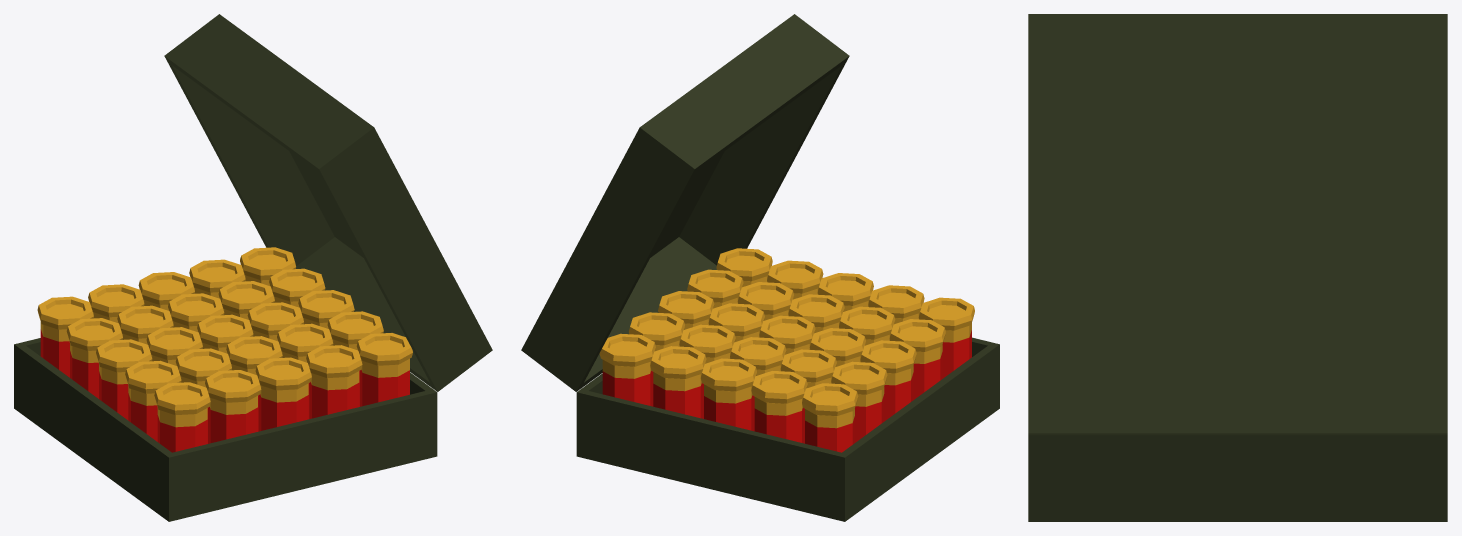
Rendered from Shotgun_Ammo.fbx.
The picture shows the model from 3 angles, left to right: view 1: azimuth 30°, elevation 25°; view 2: azimuth 150°, elevation 25°; view 3: azimuth 270°, elevation 25°; orthographic projection. The views are drawn at different scales.
Parts seen in each view (by area): view 1: Shotgun_Ammo; view 2: Shotgun_Ammo; view 3: Shotgun_Ammo.
Part boxes in pixels (x1,y1,x2,y2): Shotgun_Ammo: (14,14,492,521); Shotgun_Ammo: (521,14,999,521); Shotgun_Ammo: (1028,14,1447,521).
Size of the model in its own units: 300 by 305 by 249.
